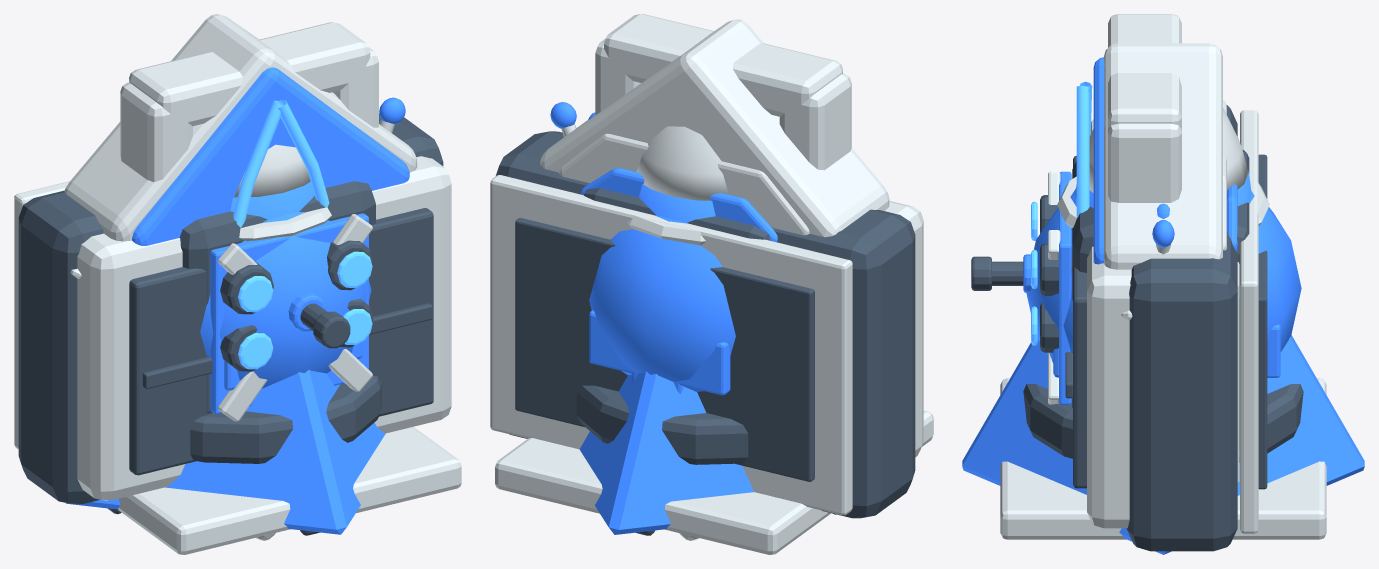
Rendered from pickup_library.glb.
The picture shows the model from 3 angles, left to right: view 1: azimuth 30°, elevation 25°; view 2: azimuth 150°, elevation 25°; view 3: azimuth 270°, elevation 25°; orthographic projection.
Visible parts, largest first — view 1: pickup_item_capsule_metal, pickup_item_capsule_frame, pickup_item_crystal_accent, pickup_item_pyramid_accent, pickup_item_pyramid_frame, pickup_item_crystal_frame, pickup_ROCKET_TURRET_metal, pickup_item_sphere_accent, pickup_item_box_metal, pickup_item_box_accent, pickup_ROCKET_TURRET_glow, pickup_item_box_frame (+7 smaller); view 2: pickup_item_capsule_metal, pickup_item_capsule_frame, pickup_item_crystal_frame, pickup_item_sphere_accent, pickup_item_pyramid_accent, pickup_item_pyramid_frame, pickup_ROCKET_TURRET_metal, pickup_item_shield_frame, pickup_ROCKET_MEGA_frame, pickup_item_capsule_accent, pickup_item_shield_accent, pickup_item_box_metal (+3 smaller); view 3: pickup_item_capsule_metal, pickup_item_capsule_frame, pickup_item_crystal_frame, pickup_item_pyramid_accent, pickup_item_pyramid_frame, pickup_ROCKET_TURRET_metal, pickup_item_sphere_accent, pickup_item_crystal_accent, pickup_item_box_accent, pickup_item_crystal_glow, pickup_item_box_metal, pickup_MG_TURRET_metal (+8 smaller).
Boxes of the visible parts, x1,y1,x2,y2 form: pickup_item_capsule_metal: (18,114,443,504); pickup_item_capsule_frame: (14,22,451,500); pickup_item_crystal_accent: (132,67,409,245); pickup_item_pyramid_accent: (66,369,385,534); pickup_item_pyramid_frame: (118,426,461,554); pickup_item_crystal_frame: (64,14,417,540); pickup_ROCKET_TURRET_metal: (190,240,381,463); pickup_item_sphere_accent: (200,212,371,388); pickup_item_box_metal: (179,181,375,412); pickup_item_box_accent: (210,213,368,414); pickup_ROCKET_TURRET_glow: (238,251,372,369); pickup_item_box_frame: (217,214,372,421); pickup_item_capsule_metal: (496,131,915,518); pickup_item_capsule_frame: (490,14,923,515); pickup_item_crystal_frame: (540,19,889,540); pickup_item_sphere_accent: (589,215,735,392); pickup_item_pyramid_accent: (579,371,753,534); pickup_item_pyramid_frame: (495,411,933,554); pickup_ROCKET_TURRET_metal: (576,385,748,464); pickup_item_shield_frame: (559,133,809,235); pickup_ROCKET_MEGA_frame: (636,126,728,200); pickup_item_capsule_accent: (589,310,730,395); pickup_item_shield_accent: (581,168,777,242); pickup_item_box_metal: (584,188,774,240); pickup_item_capsule_metal: (1065,105,1267,551); pickup_item_capsule_frame: (1087,14,1258,533); pickup_item_crystal_frame: (1104,43,1222,269); pickup_item_pyramid_accent: (962,335,1364,554); pickup_item_pyramid_frame: (1000,378,1326,539); pickup_ROCKET_TURRET_metal: (1023,195,1303,462); pickup_item_sphere_accent: (1026,188,1301,362); pickup_item_crystal_accent: (1093,57,1104,264); pickup_item_box_accent: (1059,171,1071,404); pickup_item_crystal_glow: (1076,81,1092,217); pickup_item_box_metal: (1072,150,1249,407); pickup_MG_TURRET_metal: (971,256,1023,290).
Bounding box in the file's own units: 5.22 × 6.3 × 4.72.
